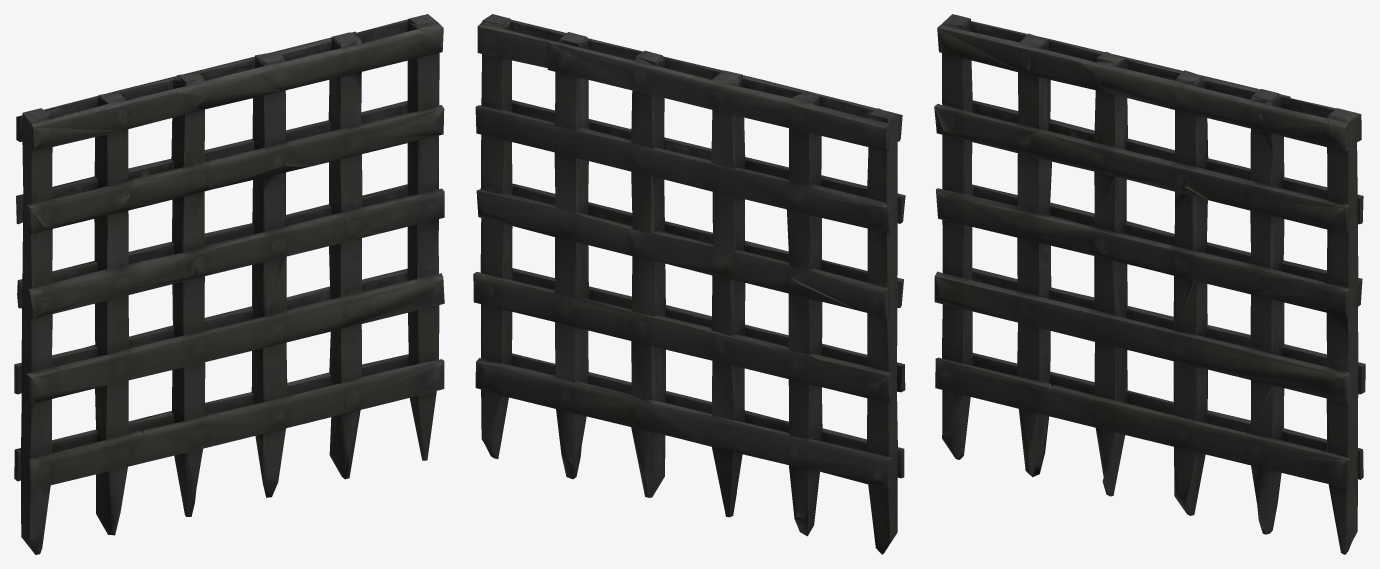
3 renders of one model, left to right at view 1: azimuth 30°, elevation 25°; view 2: azimuth 150°, elevation 25°; view 3: azimuth 330°, elevation 25°, orthographic.
Visible parts, largest first — view 1: Metal gate; view 2: Metal gate; view 3: Metal gate.
Part boxes in pixels (left/top/right/bottom): Metal gate: left=14, top=14, right=444, bottom=554; Metal gate: left=473, top=14, right=905, bottom=554; Metal gate: left=934, top=14, right=1365, bottom=554.
Bounding box in the file's own units: 1.96 × 1.99 × 0.179.
1 material, 1 textured.
